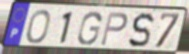1: (59, 11, 75, 45)
7: (154, 12, 182, 50)
G: (76, 11, 103, 47)
O: (25, 9, 52, 45)
P: (99, 11, 129, 47)
S: (127, 11, 156, 49)
